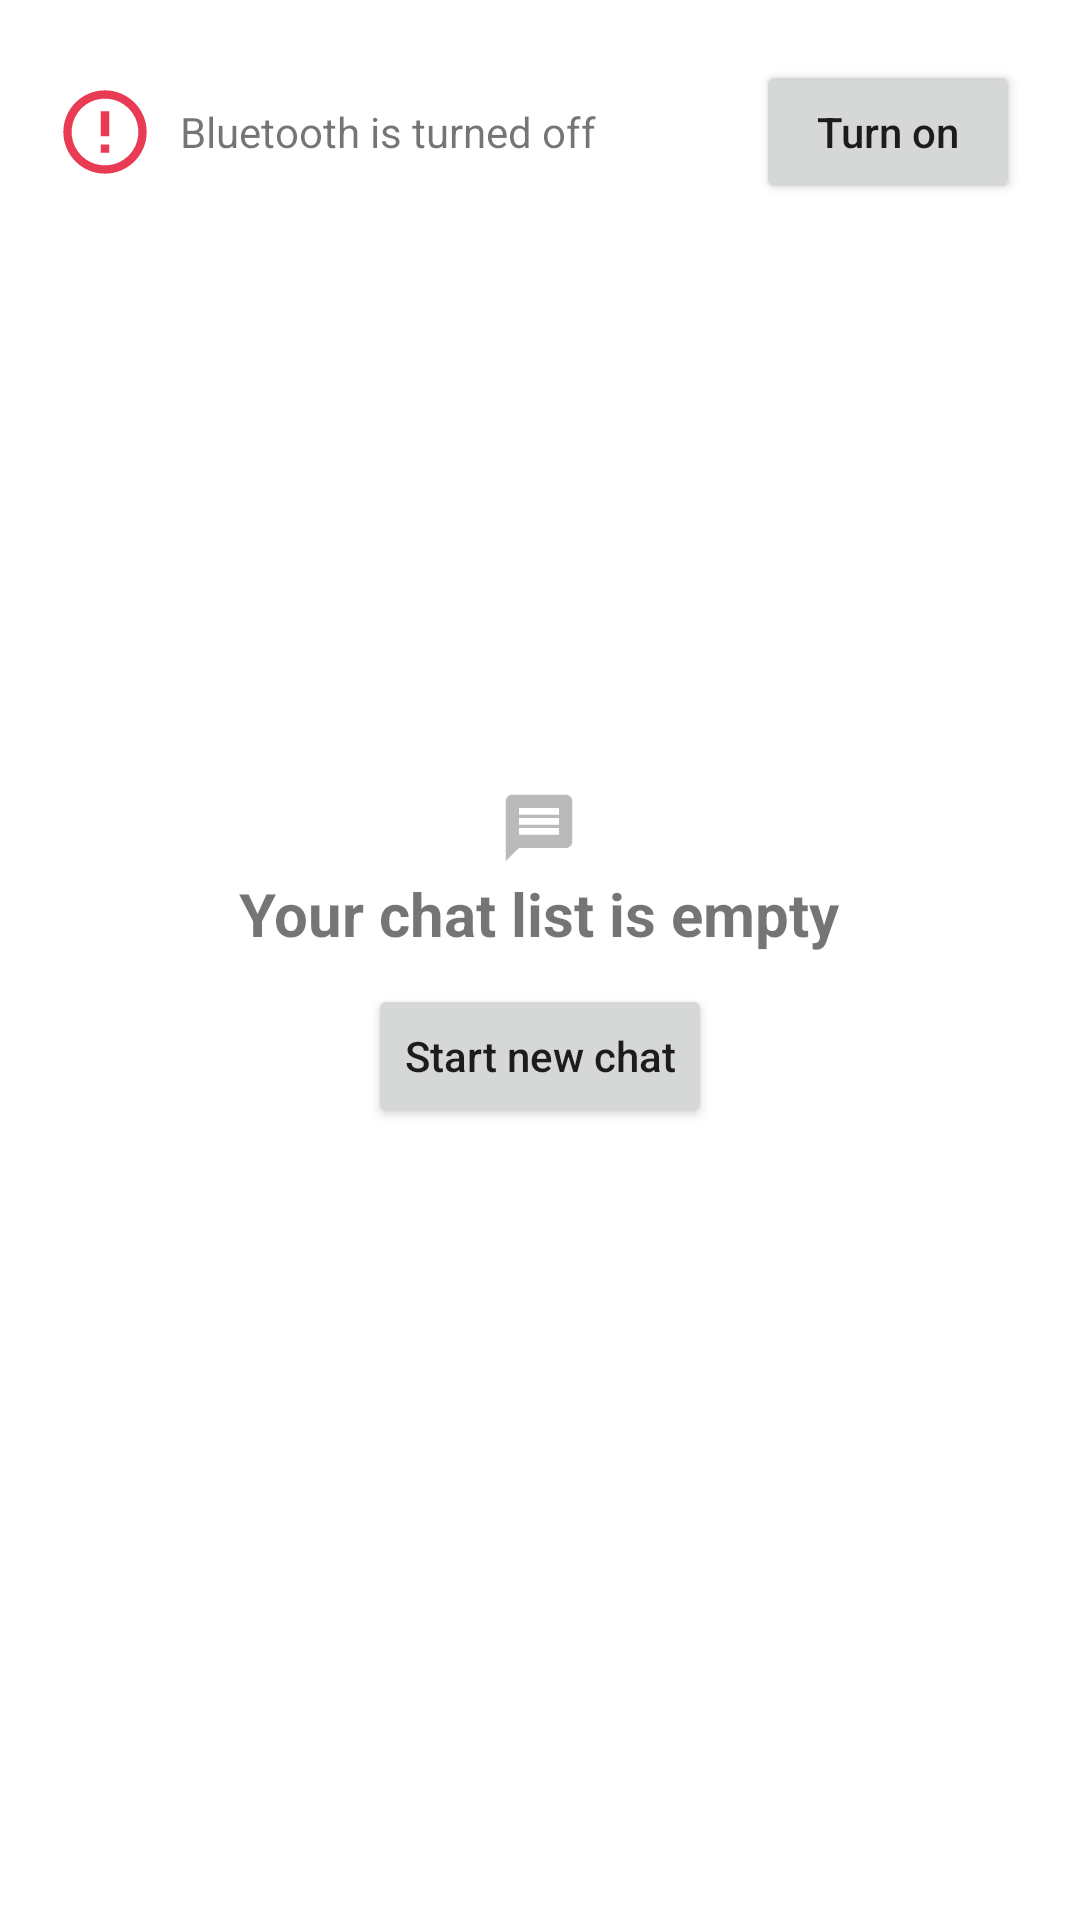

Where to tap for icons on this 1080 × 1920 app screen, as (x,y):
error: (105,132)
